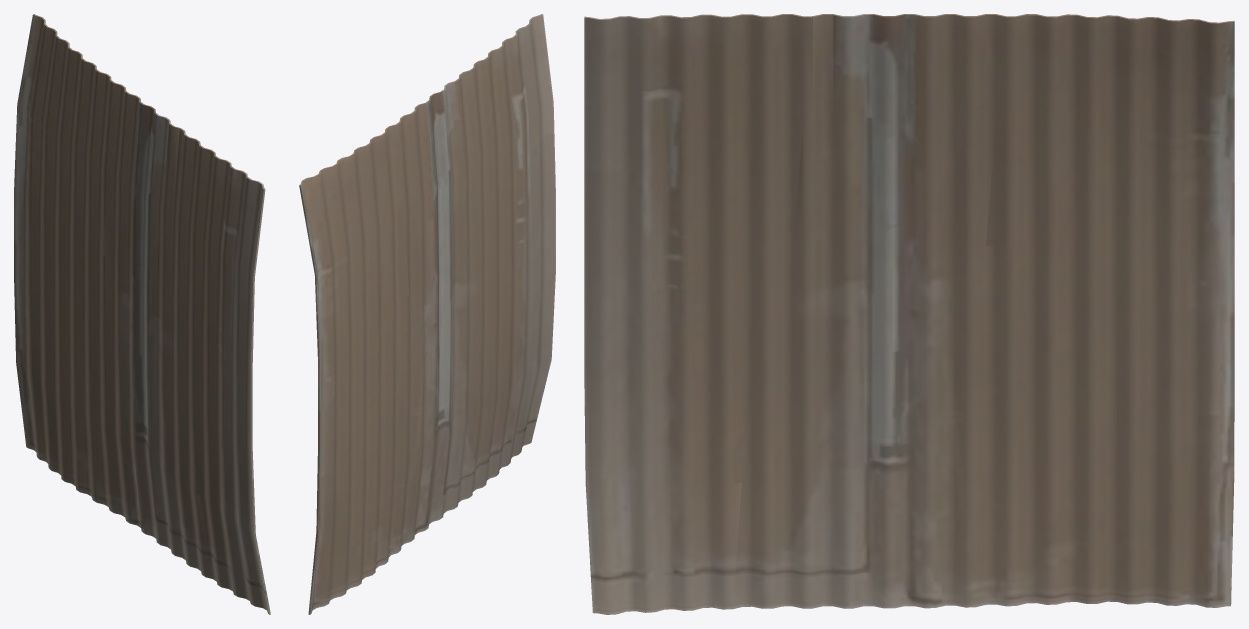
The picture shows the model from 3 angles, left to right: view 1: azimuth 30°, elevation 25°; view 2: azimuth 150°, elevation 25°; view 3: azimuth 270°, elevation 25°; orthographic projection. The views are drawn at different scales.
Parts seen in each view (by area): view 1: body0_model0_lod0_mesh0; view 2: body0_model0_lod0_mesh0; view 3: body0_model0_lod0_mesh0.
Part boxes in pixels (box(x1,y1,x2,y2)): body0_model0_lod0_mesh0: box(14, 14, 270, 614); body0_model0_lod0_mesh0: box(299, 14, 555, 614); body0_model0_lod0_mesh0: box(584, 14, 1234, 614).
Bounding box in the file's own units: 8.02 × 128 × 128.
1 material, 1 textured.
